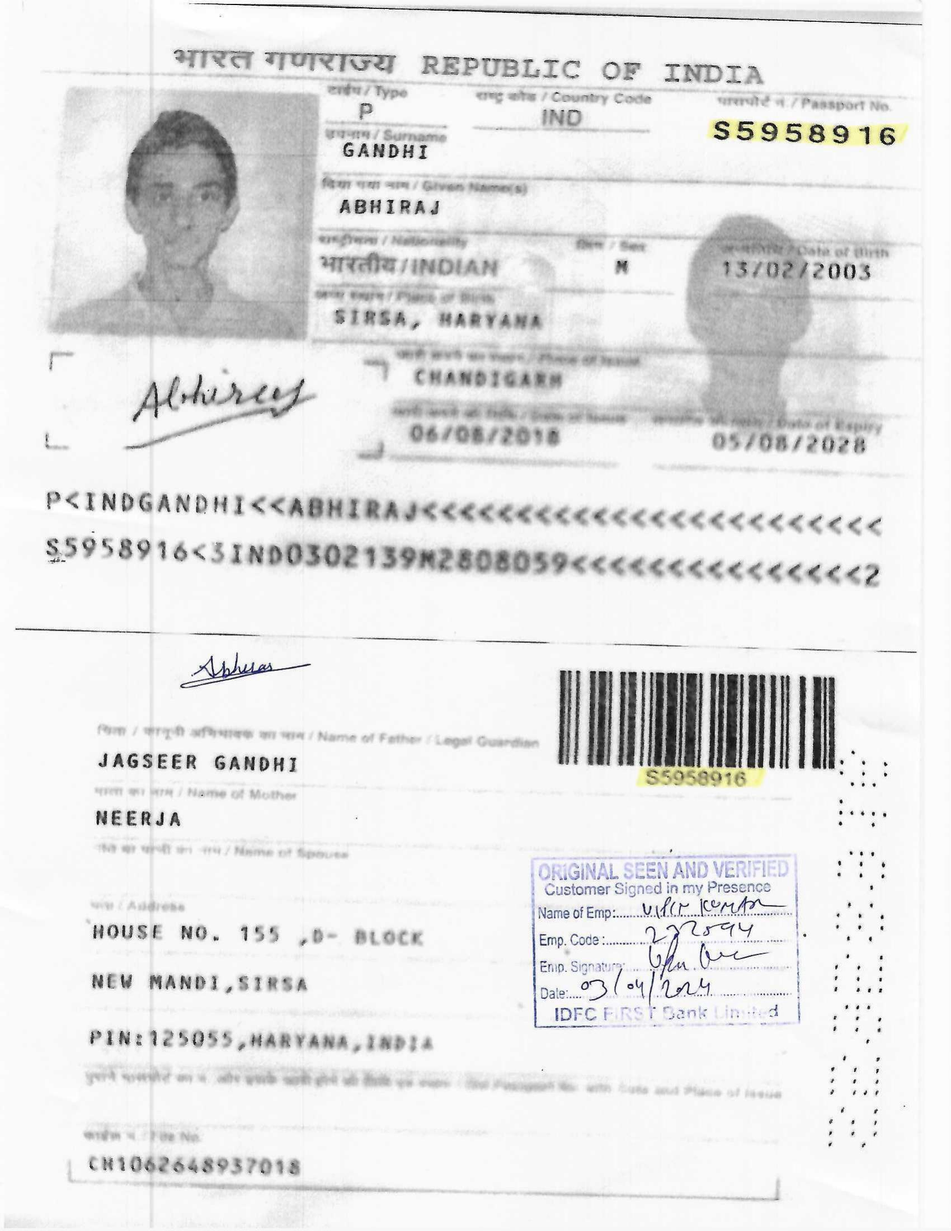DOB: (710, 252, 880, 289)
File_no: (75, 1148, 314, 1189)
address: (73, 896, 458, 1066)
country_code: (537, 106, 588, 135)
date_of_expiry: (696, 426, 879, 468)
date_of_issue: (403, 420, 570, 452)
details: (39, 480, 892, 593)
father_name: (83, 740, 313, 782)
mother_name: (88, 801, 199, 834)
name: (318, 139, 545, 228)
nationality: (310, 243, 515, 286)
passport_no: (699, 112, 908, 153), (645, 767, 759, 793)
place_of_birth: (332, 298, 552, 344)
place_of_issue: (405, 362, 577, 398)
sex: (590, 248, 653, 290)
sign: (132, 357, 314, 446)
type: (340, 95, 397, 129)
